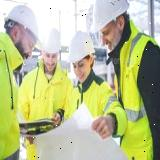Helmet: (4, 4, 43, 51), (90, 0, 131, 34), (66, 31, 96, 64), (41, 24, 61, 54)
Vest: (114, 29, 158, 158)
